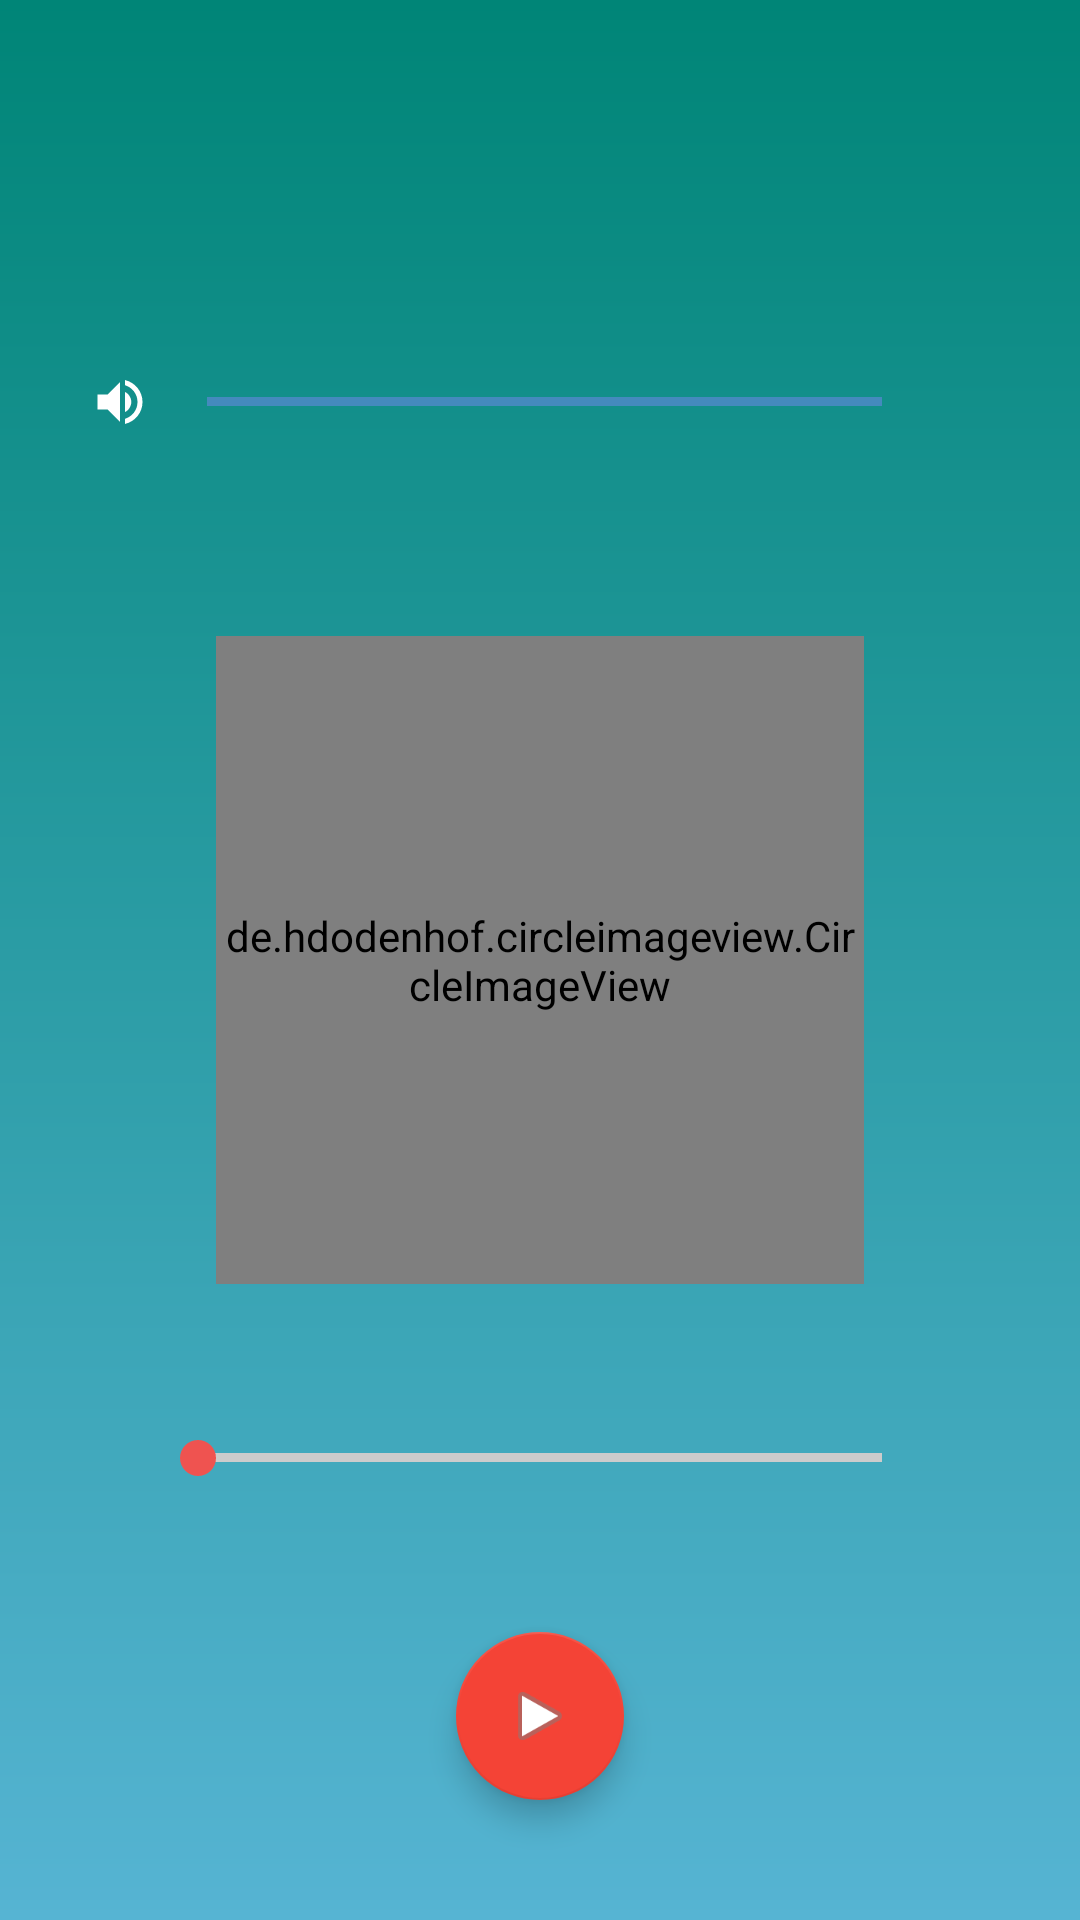

Icon click points for this 1080 × 1920 phone screenshot, format (x=x, y=y):
Lecture: (x=540, y=1716)
Son: (x=120, y=402)
